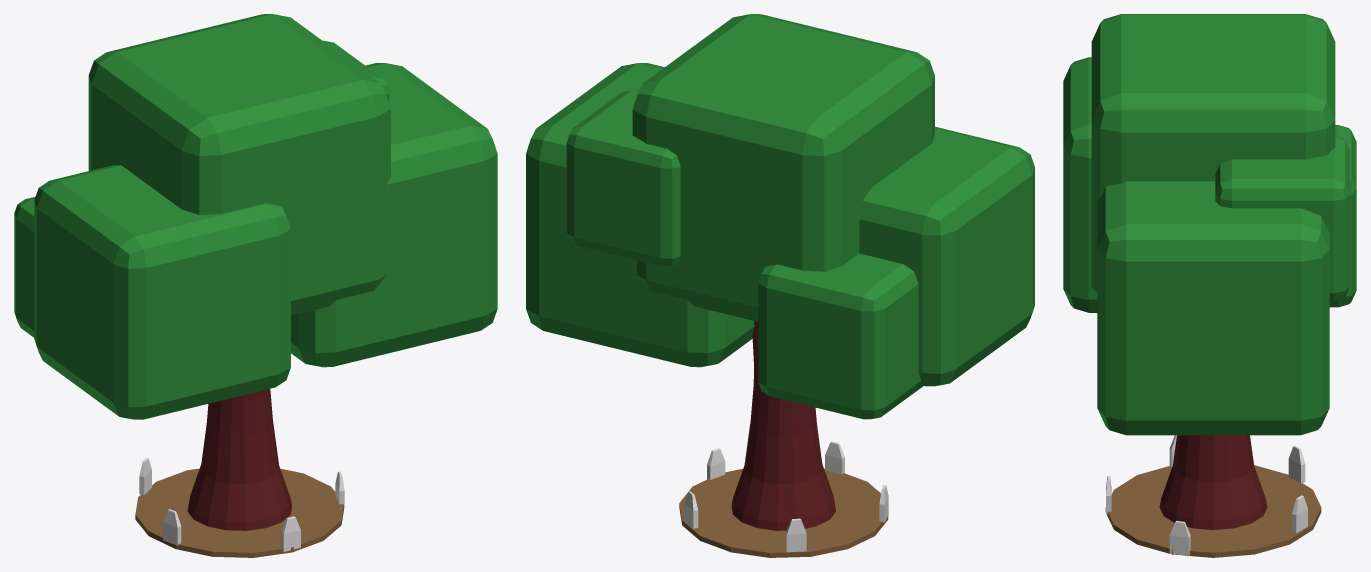
File: asset.gltf
3 renders of one model, left to right at view 1: azimuth 30°, elevation 25°; view 2: azimuth 150°, elevation 25°; view 3: azimuth 270°, elevation 25°, orthographic. The views are drawn at different scales.
Parts seen in each view (by area): view 1: node-0; view 2: node-0; view 3: node-0.
Part boxes in pixels (x1,y1,x2,y2): node-0: (14, 14, 497, 557); node-0: (526, 14, 1034, 557); node-0: (1063, 14, 1356, 557).
Size of the model in its own units: 3.88 by 4.15 by 2.41.
